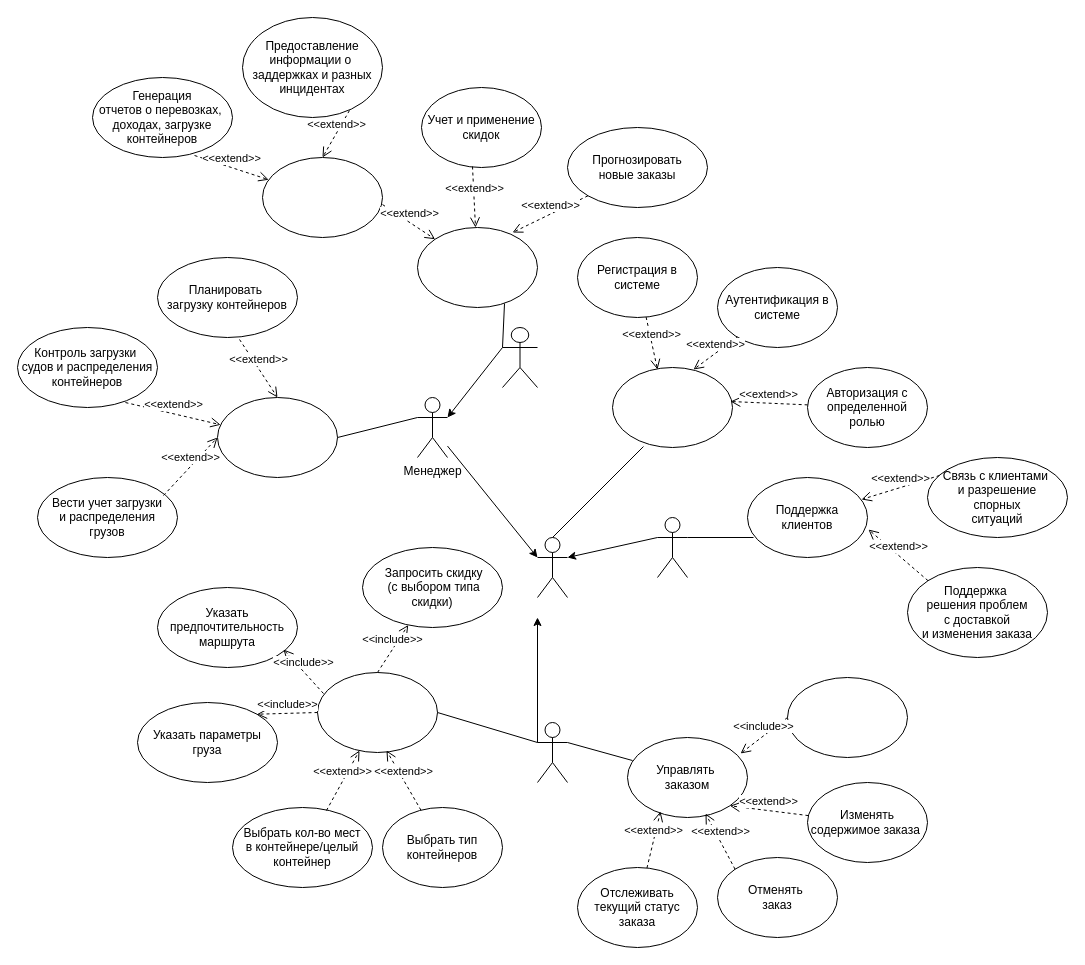
Some shapes in this 1085 by 965 pixel diagram are drawn without their labels. Each missing label, with the centre of its shape:
Бронировать аренду контейнеров: (x=377, y=712)
Ведение системных операций: (x=477, y=267)
Заказчик: (x=552, y=752)
Обработка отчетности: (x=322, y=197)
Получать уведомления о изменениях в статусе заказа: (x=847, y=717)
Пользователь: (x=552, y=567)
Системный модуль администр.: (x=520, y=357)
Сотрудник службы поддержки: (x=672, y=547)
Управление аккаунтом: (x=672, y=407)
Управление судном и контейнерами: (x=277, y=437)
